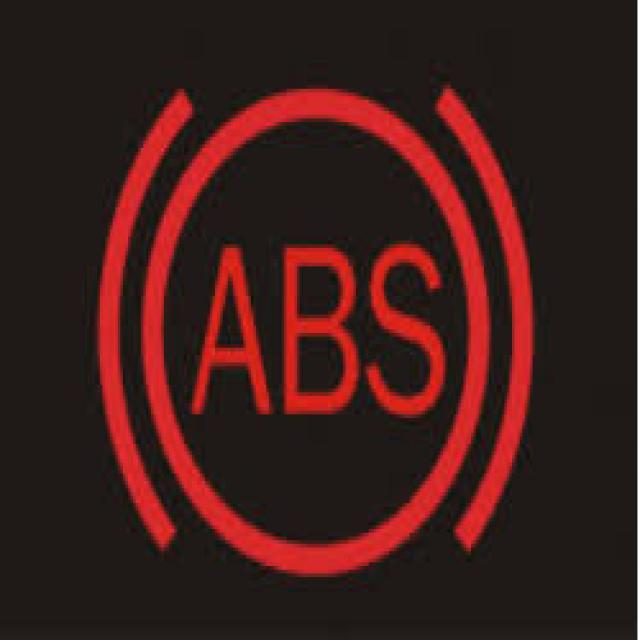kontrolka: (86, 80, 556, 588), (82, 75, 543, 572)
